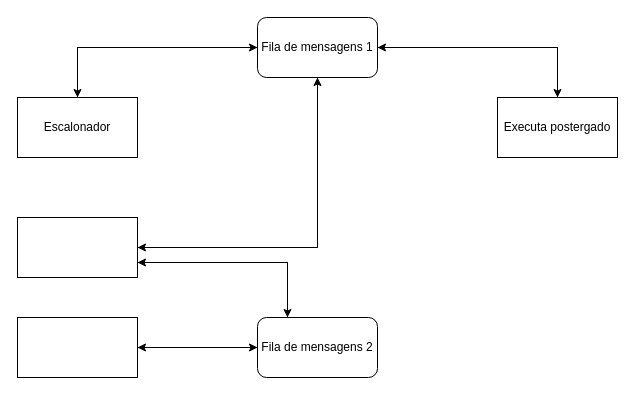
Some shapes in this 635 by 395 pixel diagram are drawn without their labels. Each missing label, with the centre of its shape:
Nó zero da topologia: the point at 77,247
Outros nós da topologia: the point at 77,347
